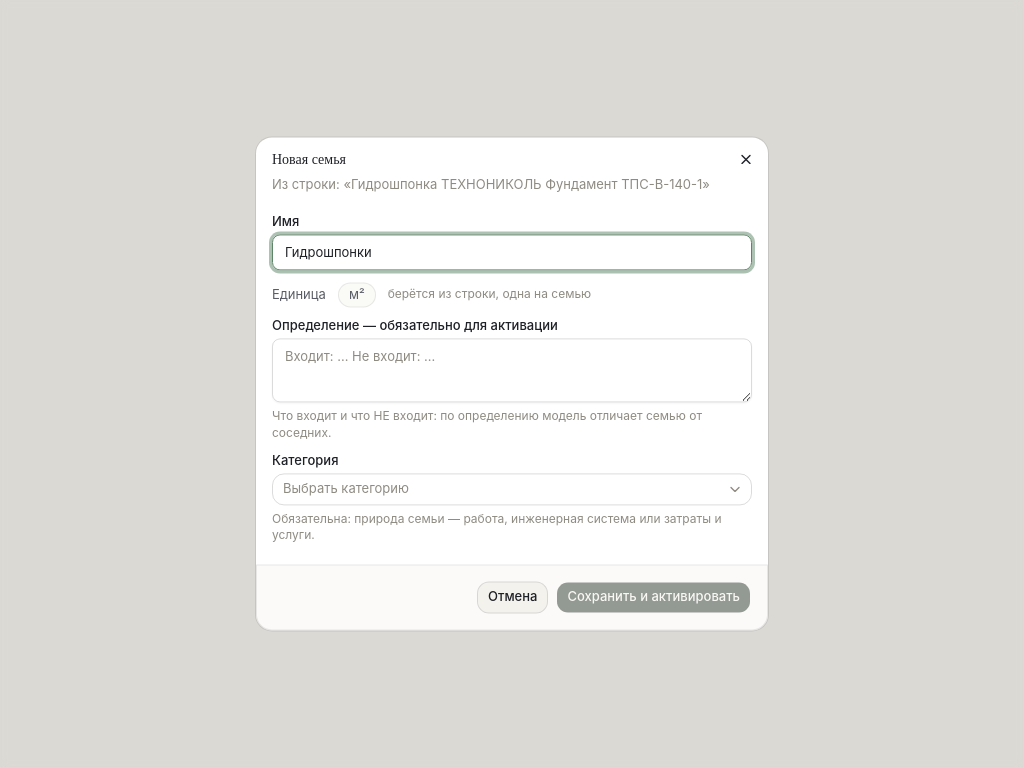
Test: CreateFamilyDialog › список категорий — справочник сервера, по определению; выбор показан в поле
Click the dropdown named "Категория" at (346, 488), box [272,473,752,505]
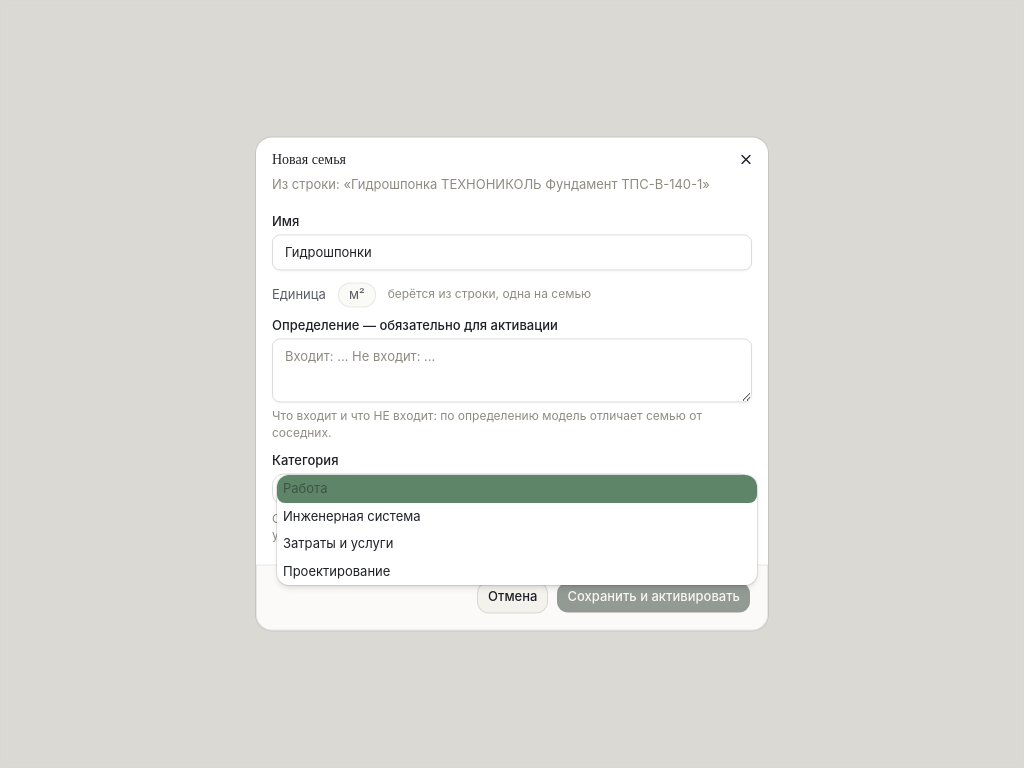
Now the option "Работа" is shown, box [277,475,757,503]
Now the option "Инженерная система" is shown, box [283,508,420,524]
Now the option "Затраты и услуги" is shown
Click the option "Затраты и услуги" at (338, 543), box [283,535,393,551]
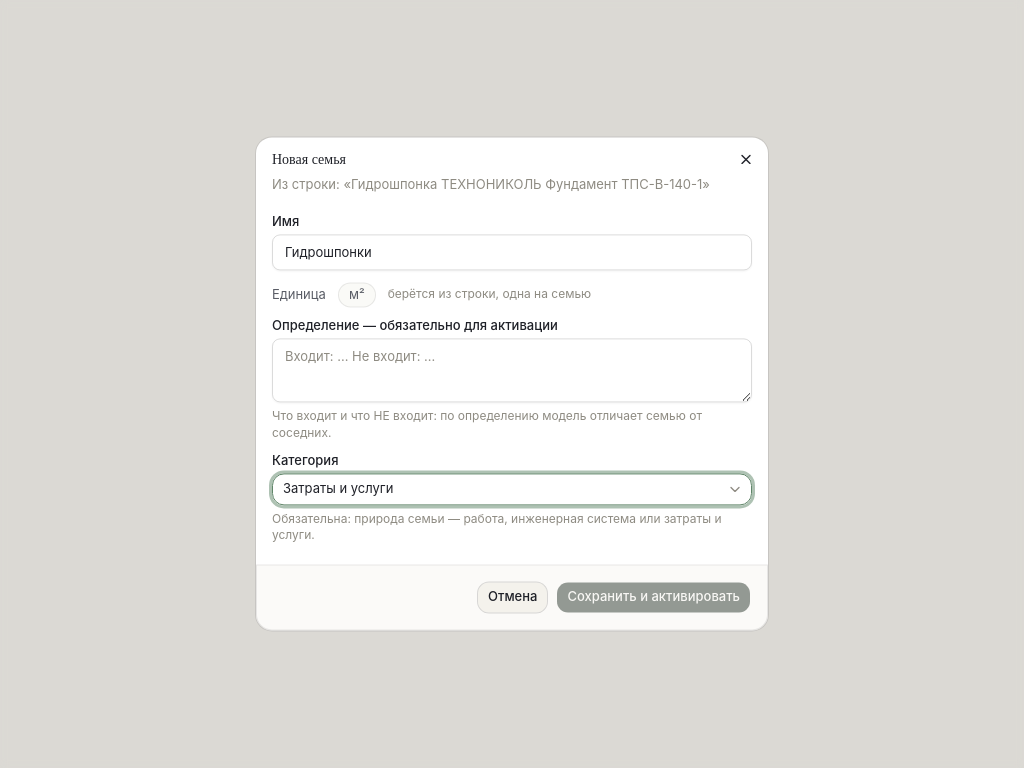
Now the dropdown named "Категория" shows "Затраты и услуги", box [272,473,752,505]
